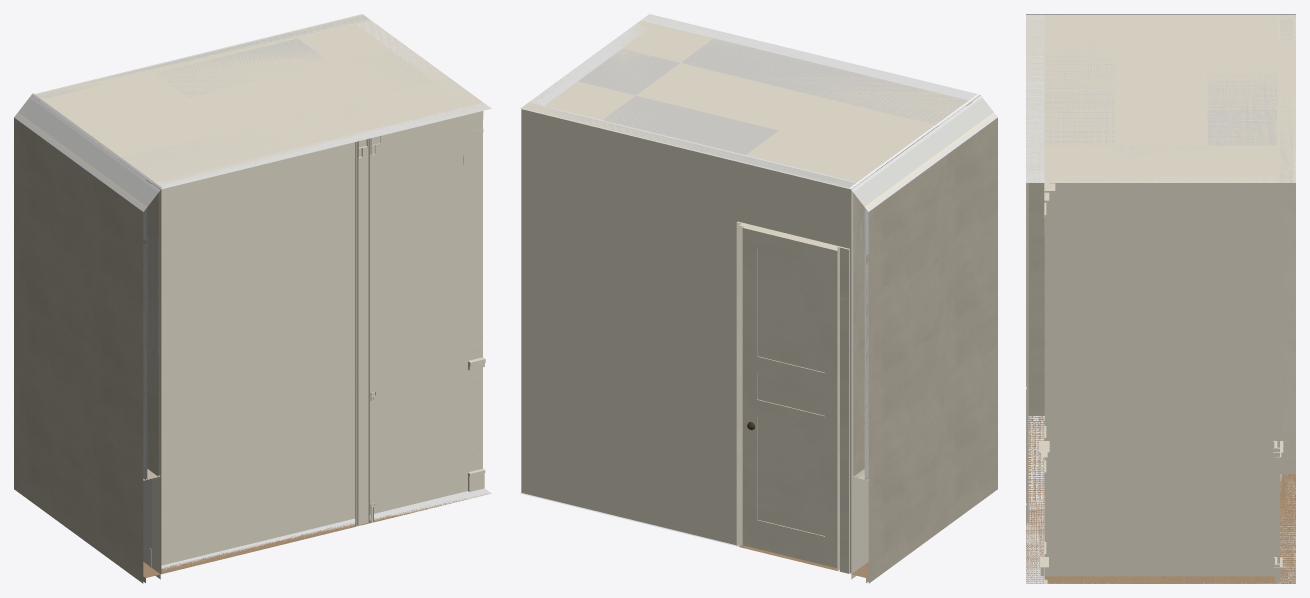
Rendered from upstairs-closet-west-48d6de74b634.glb.
3 renders of one model, left to right at view 1: azimuth 30°, elevation 25°; view 2: azimuth 150°, elevation 25°; view 3: azimuth 270°, elevation 25°, orthographic. The views are drawn at different scales.
Visible parts, largest first — view 1: upstairs-closet-west-6e269356ae8bfd70, upstairs-closet-west-9d91b47435c6fb33, upstairs-closet-west-312b4ac1be39223d, upstairs-closet-west-33ee0b466567e5f0, upstairs-closet-west-ed5fdcd3ee9c0dd5, upstairs-closet-west-39b94aca90fa4b53, upstairs-closet-west-3a4d9d62ecd7be1c, upstairs-closet-west-414385708a06acff, upstairs-closet-west-06754748489735a0, upstairs-closet-west-6a4a24524a86ae48, upstairs-closet-west-b63ee86b16afd4c0, upstairs-closet-west-1e3385c37a14aaf6 (+9 smaller); view 2: upstairs-closet-west-eb02897c2e79e2b1, upstairs-closet-west-312b4ac1be39223d, upstairs-closet-west-7406100458e293ce, upstairs-closet-west-9d91b47435c6fb33, upstairs-closet-west-33ee0b466567e5f0, upstairs-closet-west-242740a07d2af182, upstairs-closet-west-6a4a24524a86ae48, upstairs-closet-west-3a4d9d62ecd7be1c, upstairs-closet-west-39b94aca90fa4b53, upstairs-closet-west-442e5a19ed849720, upstairs-closet-west-4fe731a8ba1c3bde, upstairs-closet-west-6e269356ae8bfd70 (+3 smaller); view 3: upstairs-closet-west-af27112094daa34f, upstairs-closet-west-9d91b47435c6fb33, upstairs-closet-west-6e269356ae8bfd70, upstairs-closet-west-2575515a05775d9e, upstairs-closet-west-6a4a24524a86ae48, upstairs-closet-west-442e5a19ed849720, upstairs-closet-west-242740a07d2af182, upstairs-closet-west-7f77ce4796f35946, upstairs-closet-west-eb02897c2e79e2b1, upstairs-closet-west-ed5fdcd3ee9c0dd5, upstairs-closet-west-72fcfe59ea86eabd.
Part boxes in pixels (box(x1,y1,x2,y2)): upstairs-closet-west-6e269356ae8bfd70: box(152, 102, 491, 573); upstairs-closet-west-9d91b47435c6fb33: box(31, 14, 491, 188); upstairs-closet-west-312b4ac1be39223d: box(14, 114, 145, 480); upstairs-closet-west-33ee0b466567e5f0: box(14, 386, 160, 583); upstairs-closet-west-ed5fdcd3ee9c0dd5: box(355, 138, 369, 526); upstairs-closet-west-39b94aca90fa4b53: box(18, 98, 158, 479); upstairs-closet-west-3a4d9d62ecd7be1c: box(29, 95, 160, 476); upstairs-closet-west-414385708a06acff: box(149, 469, 478, 567); upstairs-closet-west-06754748489735a0: box(165, 160, 355, 424); upstairs-closet-west-6a4a24524a86ae48: box(155, 38, 329, 97); upstairs-closet-west-b63ee86b16afd4c0: box(165, 407, 355, 535); upstairs-closet-west-1e3385c37a14aaf6: box(249, 358, 479, 422); upstairs-closet-west-eb02897c2e79e2b1: box(520, 103, 859, 574); upstairs-closet-west-312b4ac1be39223d: box(866, 114, 997, 480); upstairs-closet-west-7406100458e293ce: box(742, 226, 837, 567); upstairs-closet-west-9d91b47435c6fb33: box(520, 14, 980, 189); upstairs-closet-west-33ee0b466567e5f0: box(851, 386, 997, 583); upstairs-closet-west-242740a07d2af182: box(681, 38, 971, 130); upstairs-closet-west-6a4a24524a86ae48: box(602, 95, 778, 154); upstairs-closet-west-3a4d9d62ecd7be1c: box(851, 95, 982, 476); upstairs-closet-west-39b94aca90fa4b53: box(853, 98, 993, 479); upstairs-closet-west-442e5a19ed849720: box(736, 221, 840, 571); upstairs-closet-west-4fe731a8ba1c3bde: box(840, 246, 849, 573); upstairs-closet-west-6e269356ae8bfd70: box(641, 14, 979, 100); upstairs-closet-west-af27112094daa34f: box(1044, 175, 1277, 583); upstairs-closet-west-9d91b47435c6fb33: box(1026, 14, 1295, 182); upstairs-closet-west-6e269356ae8bfd70: box(1026, 14, 1044, 583); upstairs-closet-west-2575515a05775d9e: box(1026, 416, 1295, 583); upstairs-closet-west-6a4a24524a86ae48: box(1207, 73, 1277, 145); upstairs-closet-west-442e5a19ed849720: box(1283, 183, 1295, 473); upstairs-closet-west-242740a07d2af182: box(1044, 21, 1114, 145); upstairs-closet-west-7f77ce4796f35946: box(1044, 215, 1277, 235); upstairs-closet-west-eb02897c2e79e2b1: box(1277, 15, 1295, 583); upstairs-closet-west-ed5fdcd3ee9c0dd5: box(1026, 183, 1028, 521); upstairs-closet-west-72fcfe59ea86eabd: box(1280, 183, 1282, 476).
Bounding box in the file's own units: 2.74 × 2.95 × 1.77.
Materials: 21 (3 with a texture image).
